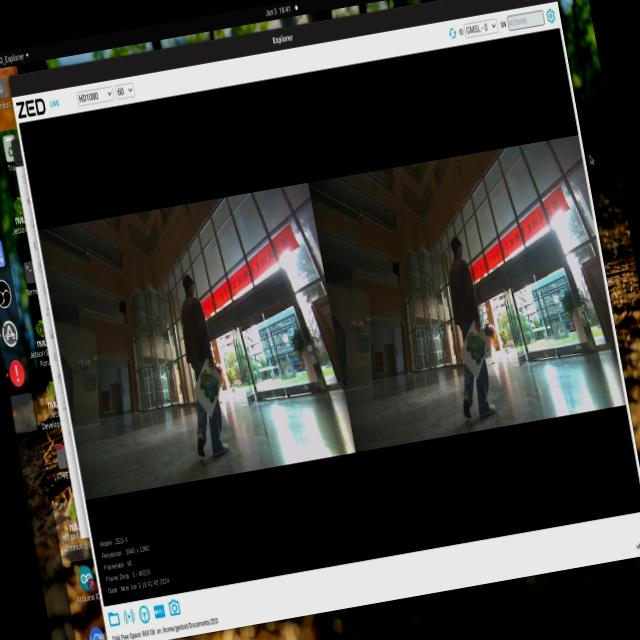green: (188, 361, 227, 412), (459, 322, 496, 368)
